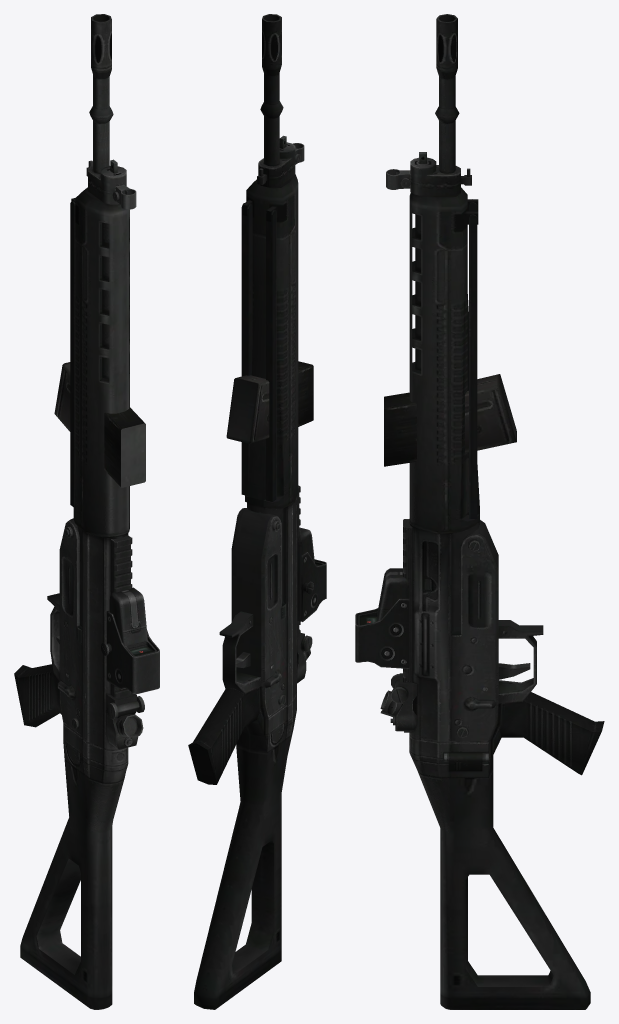
File: SG550_DotSight.obj
3 views of the same model, side by side, from view 1: azimuth 30°, elevation 25°; view 2: azimuth 150°, elevation 25°; view 3: azimuth 270°, elevation 25° (orthographic). The views are drawn at different scales.
Parts seen in each view (by area): view 1: Model_SG550, Dotsight,Model_SG550, Model_Magazine, Model_SG550,Rail; view 2: Model_SG550, Model_Magazine, Dotsight,Model_SG550; view 3: Model_SG550, Model_Magazine, Dotsight,Model_SG550, Model_SG550,Rail.
Boxes of the visible parts, bbox=[...] form: Model_SG550: bbox=[14, 14, 144, 1009]; Dotsight,Model_SG550: bbox=[101, 587, 159, 694]; Model_Magazine: bbox=[54, 362, 145, 487]; Model_SG550,Rail: bbox=[111, 535, 132, 697]; Model_SG550: bbox=[188, 14, 312, 1009]; Model_Magazine: bbox=[226, 361, 313, 443]; Dotsight,Model_SG550: bbox=[297, 527, 326, 621]; Model_SG550: bbox=[380, 14, 604, 1009]; Model_Magazine: bbox=[384, 374, 516, 466]; Dotsight,Model_SG550: bbox=[355, 568, 409, 668]; Model_SG550,Rail: bbox=[403, 519, 412, 682].
Bounding box in the file's own units: 0.0481 × 0.988 × 0.2261.
3 materials, 3 textured.
